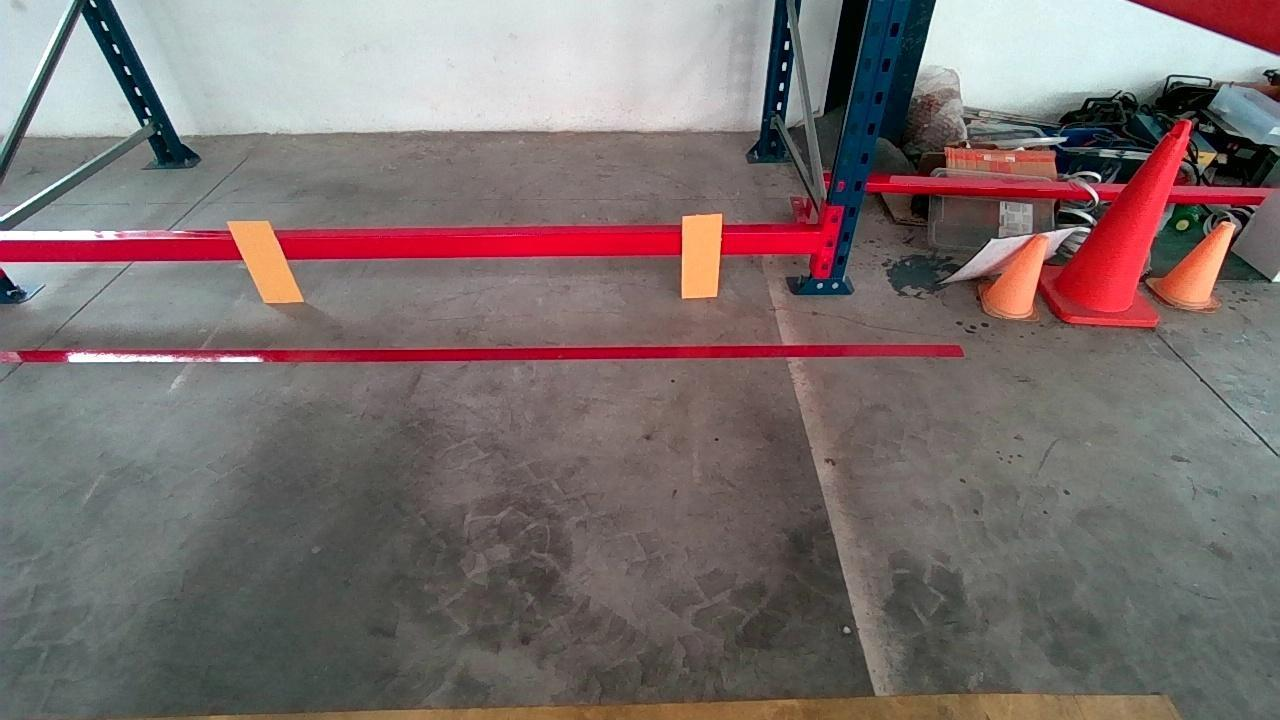h_rack: (0, 230, 818, 260)
orange_strip: (229, 220, 301, 301), (681, 213, 722, 296)
red_line: (0, 343, 964, 361)
yellow_line: (78, 695, 1175, 720)
